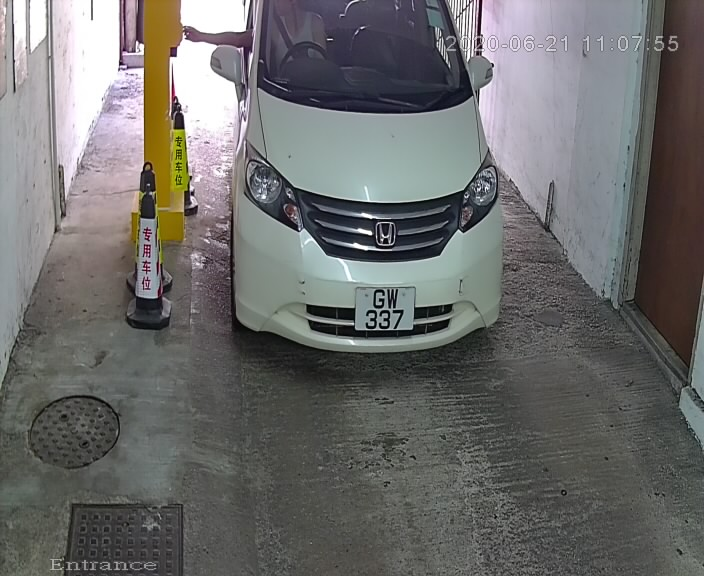privatecar: (200, 1, 514, 378)
